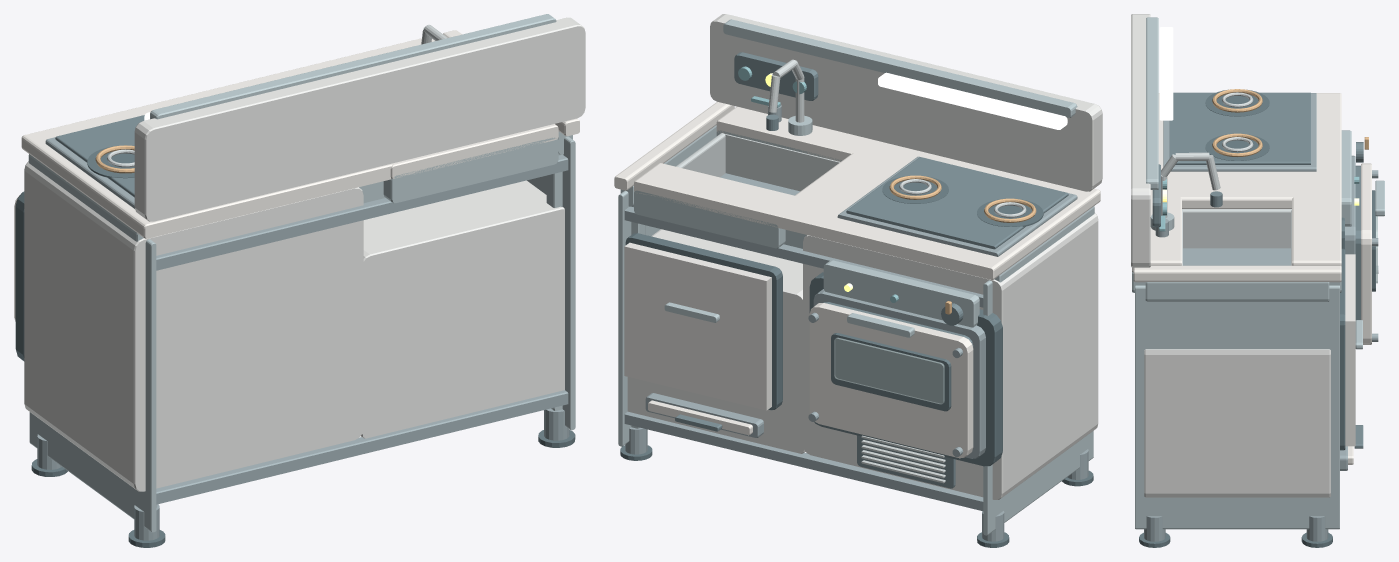
The model's file is galley_counter.glb.
3 renders of one model, left to right at view 1: azimuth 30°, elevation 25°; view 2: azimuth 150°, elevation 25°; view 3: azimuth 270°, elevation 25°, orthographic. The views are drawn at different scales.
Visible parts, largest first — view 1: Fixed__shell, Fixed__aluminium, Fixed__steel, Fixed__ivory, Fixed__rubber, Fixed__graphite; view 2: Fixed__shell, Fixed__ivory, Fixed__aluminium, sink_storage_door__ceramic, Fixed__steel, warmer_door__ivory, Fixed__graphite, Fixed__rubber, Fixed__silver, warmer_door__rubber, warmer_door__glass, Fixed__light (+3 smaller); view 3: Fixed__shell, Fixed__aluminium, Fixed__ivory, Fixed__graphite, Fixed__silver, Fixed__steel, Fixed__rubber, sink_storage_door__ceramic, warmer_door__ivory, Fixed__light, Fixed__orange, warmer_door__rubber (+1 smaller).
Boxes of the visible parts, x1,y1,x2,y2 form: Fixed__shell: (24, 17, 585, 491); Fixed__aluminium: (28, 14, 575, 532); Fixed__steel: (37, 137, 569, 540); Fixed__ivory: (21, 30, 579, 238); Fixed__rubber: (15, 146, 575, 547); Fixed__graphite: (55, 115, 144, 197); Fixed__shell: (627, 14, 1102, 499); Fixed__ivory: (614, 101, 1100, 279); Fixed__aluminium: (618, 19, 1094, 535); sink_storage_door__ceramic: (624, 242, 771, 410); Fixed__steel: (624, 105, 1088, 541); warmer_door__ivory: (809, 303, 973, 458); Fixed__graphite: (734, 52, 1068, 488); Fixed__rubber: (620, 176, 1093, 547); Fixed__silver: (676, 59, 1026, 483); warmer_door__rubber: (831, 333, 951, 411); warmer_door__glass: (834, 337, 944, 404); Fixed__light: (878, 72, 1067, 129); Fixed__shell: (1131, 14, 1330, 497); Fixed__aluminium: (1132, 17, 1351, 529); Fixed__ivory: (1132, 93, 1341, 282); Fixed__graphite: (1152, 92, 1360, 319); Fixed__silver: (1161, 92, 1291, 265); Fixed__steel: (1144, 93, 1355, 541); Fixed__rubber: (1139, 89, 1345, 547); sink_storage_door__ceramic: (1345, 254, 1355, 446); warmer_door__ivory: (1361, 163, 1371, 344); Fixed__light: (1159, 27, 1173, 120); Fixed__orange: (1212, 89, 1262, 156); warmer_door__rubber: (1372, 190, 1375, 291).
Bounding box in the file's own units: 1.43 × 1.32 × 0.8425.
